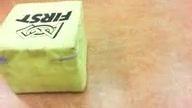cube: (1, 1, 87, 94)
